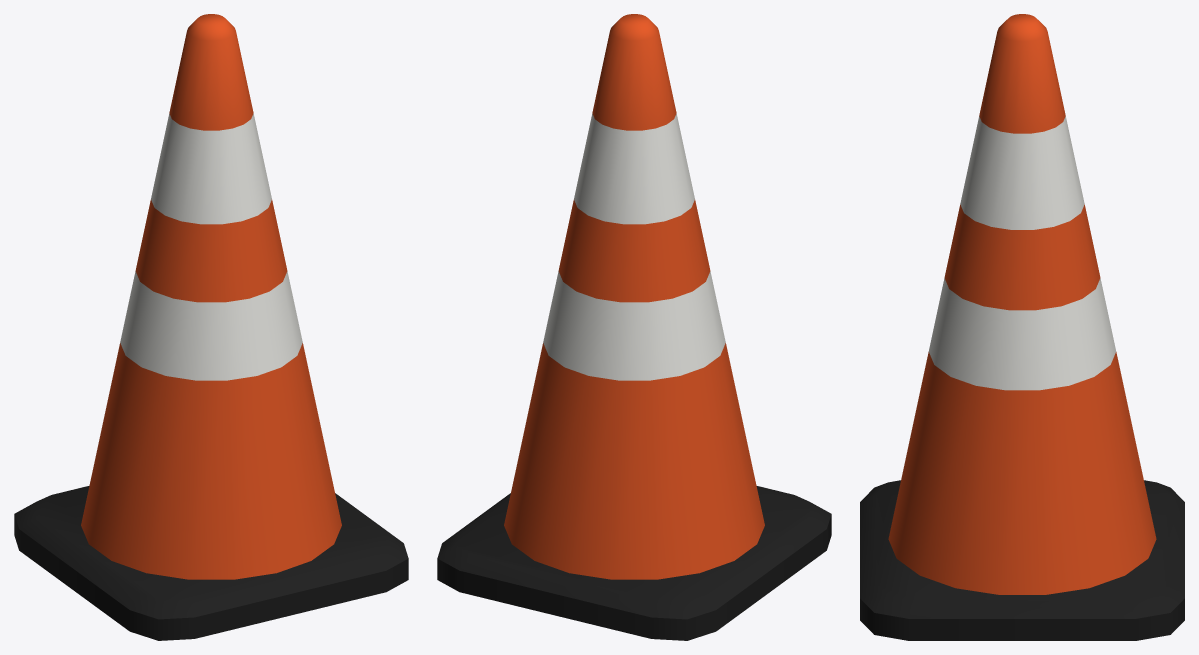
Rendered from traffic_cone.glb.
The picture shows the model from 3 angles, left to right: view 1: azimuth 30°, elevation 25°; view 2: azimuth 150°, elevation 25°; view 3: azimuth 270°, elevation 25°; orthographic projection. The views are drawn at different scales.
Visible parts, largest first — view 1: traffic_cone; view 2: traffic_cone; view 3: traffic_cone.
Boxes of the visible parts, x1,y1,x2,y2 form: traffic_cone: (14, 14, 408, 640); traffic_cone: (437, 14, 831, 640); traffic_cone: (860, 14, 1184, 640).
Size of the model in its own units: 0.4 by 0.75 by 0.4.
